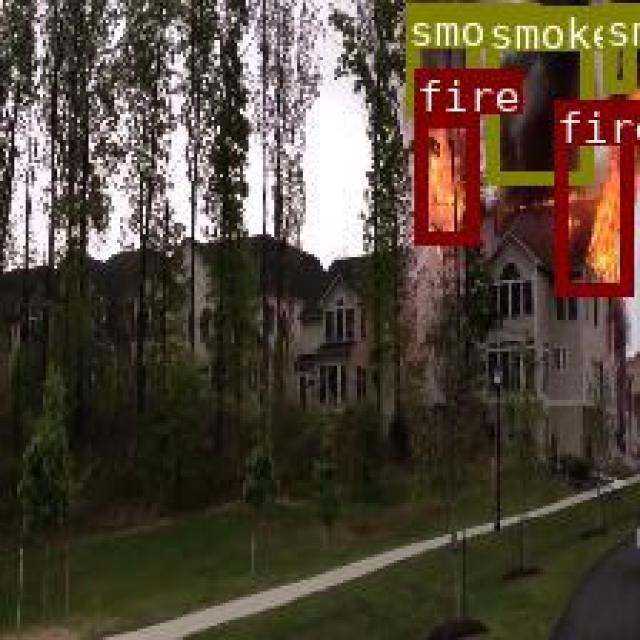fire: (554, 99, 631, 292), (412, 112, 476, 241)
smoke: (485, 3, 591, 180), (405, 1, 474, 112), (600, 1, 633, 90)
